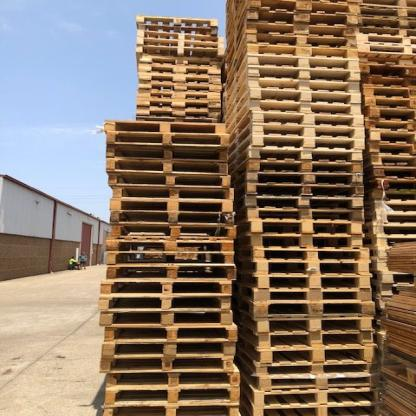BoxFace: (101, 354, 234, 374), (101, 120, 229, 138), (100, 310, 235, 327), (255, 318, 375, 334), (135, 96, 222, 108)
